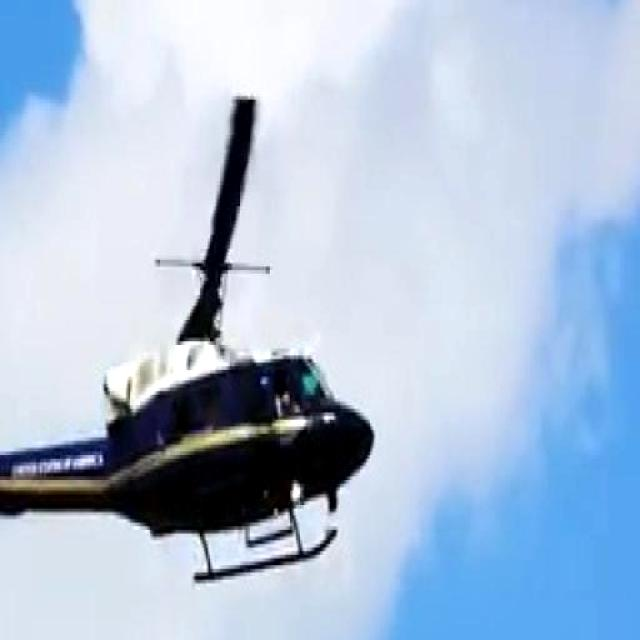drone: (0, 80, 380, 598)
